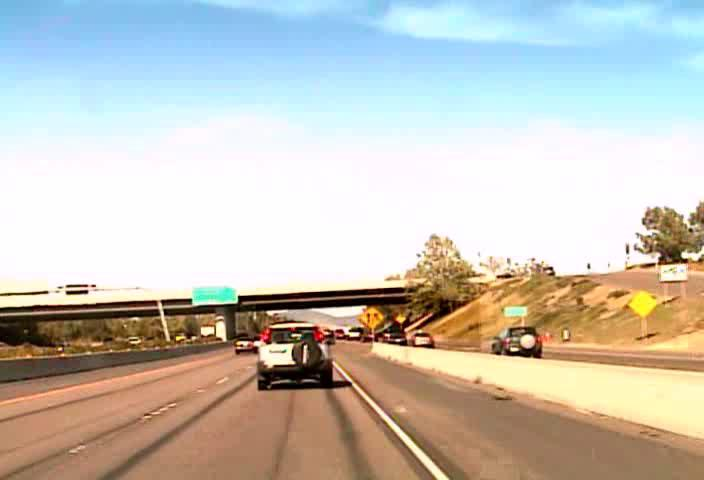addedLane: (358, 305, 384, 329)
